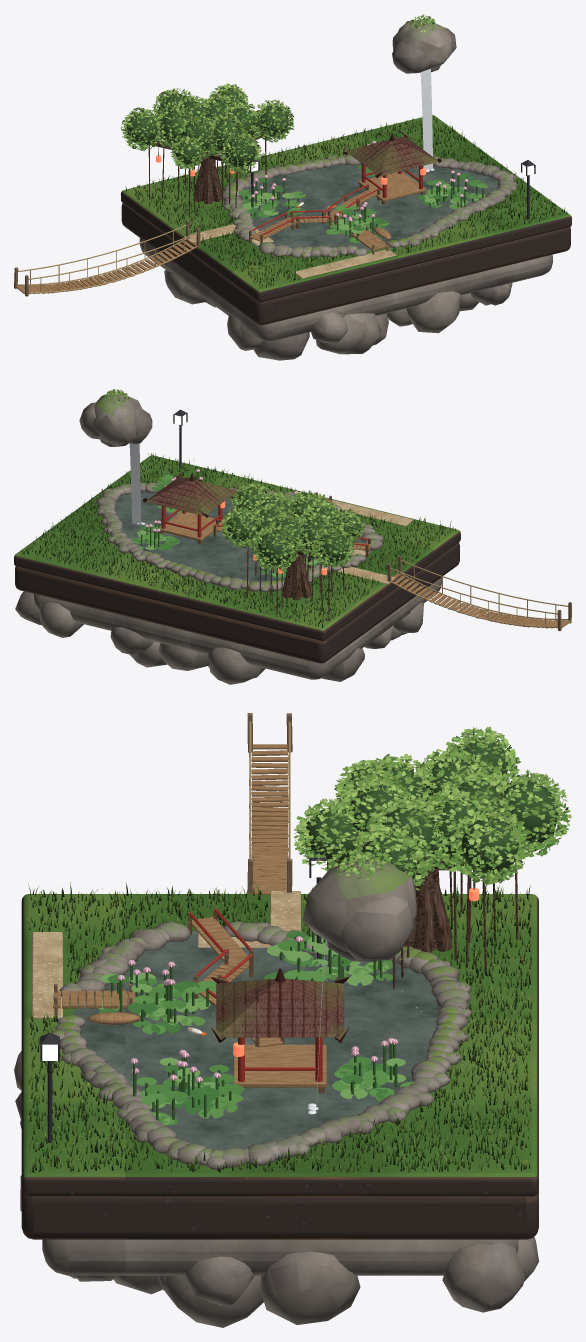
The model's file is unlock-lotus-ha.glb.
3 renders of one model, top to bottom at view 1: azimuth 30°, elevation 25°; view 2: azimuth 150°, elevation 25°; view 3: azimuth 270°, elevation 25°, orthographic. The views are drawn at different scales.
Visible parts, largest first — view 1: unlock-lotus-static, sway.005-mesh, pond-bed, grass-right, fall-float; view 2: unlock-lotus-static, sway.005-mesh, grass-right, pond-bed, fall-float; view 3: unlock-lotus-static, sway.005-mesh, pond-bed, grass-right.
Boxes of the visible parts, bbox=[...] form: unlock-lotus-static: bbox=[14, 14, 571, 360]; sway.005-mesh: bbox=[121, 83, 294, 173]; pond-bed: bbox=[239, 163, 498, 249]; grass-right: bbox=[125, 116, 567, 288]; fall-float: bbox=[420, 69, 432, 169]; unlock-lotus-static: bbox=[14, 389, 571, 684]; sway.005-mesh: bbox=[221, 483, 365, 572]; grass-right: bbox=[22, 453, 455, 627]; pond-bed: bbox=[114, 491, 372, 581]; fall-float: bbox=[129, 443, 141, 525]; unlock-lotus-static: bbox=[14, 713, 538, 1327]; sway.005-mesh: bbox=[293, 726, 571, 890]; pond-bed: bbox=[72, 931, 441, 1149]; grass-right: bbox=[25, 880, 533, 1172].
Size of the model in its own units: 10.21 by 5.08 by 5.39.
Materials: 55 (23 with a texture image).
